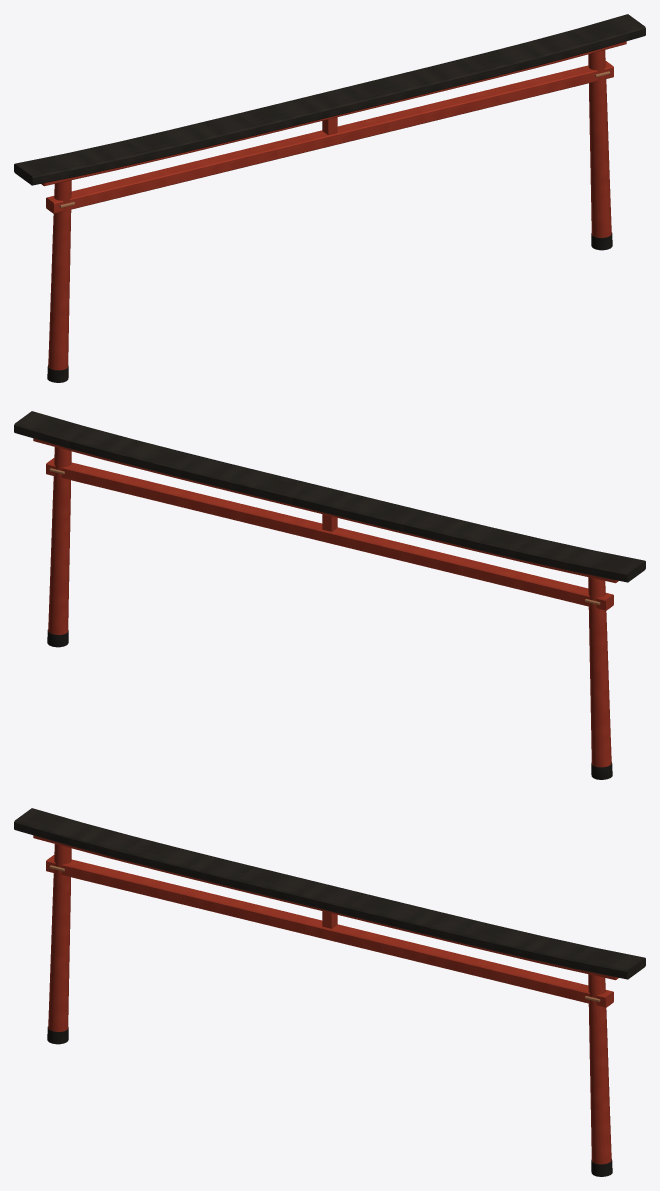
File: nyanisyarud-bakeneko-torii.glb
3 renders of one model, top to bottom at view 1: azimuth 30°, elevation 25°; view 2: azimuth 150°, elevation 25°; view 3: azimuth 330°, elevation 25°, orthographic.
Parts seen in each view (by area): view 1: Muted vermilion painted timber, Charcoal stained roof timber, Dark protective post feet; view 2: Muted vermilion painted timber, Charcoal stained roof timber, Dark protective post feet; view 3: Muted vermilion painted timber, Charcoal stained roof timber, Dark protective post feet.
Boxes of the visible parts, x1,y1,x2,y2 form: Muted vermilion painted timber: [41, 41, 626, 370]; Charcoal stained roof timber: [14, 14, 645, 185]; Dark protective post feet: [47, 232, 612, 382]; Muted vermilion painted timber: [33, 438, 618, 767]; Charcoal stained roof timber: [14, 411, 645, 582]; Dark protective post feet: [47, 629, 612, 779]; Muted vermilion painted timber: [33, 835, 618, 1164]; Charcoal stained roof timber: [14, 808, 645, 979]; Dark protective post feet: [47, 1026, 612, 1176].
Bounding box in the file's own units: 11 × 3.72 × 0.58.
Materials: 4 (3 with a texture image).
